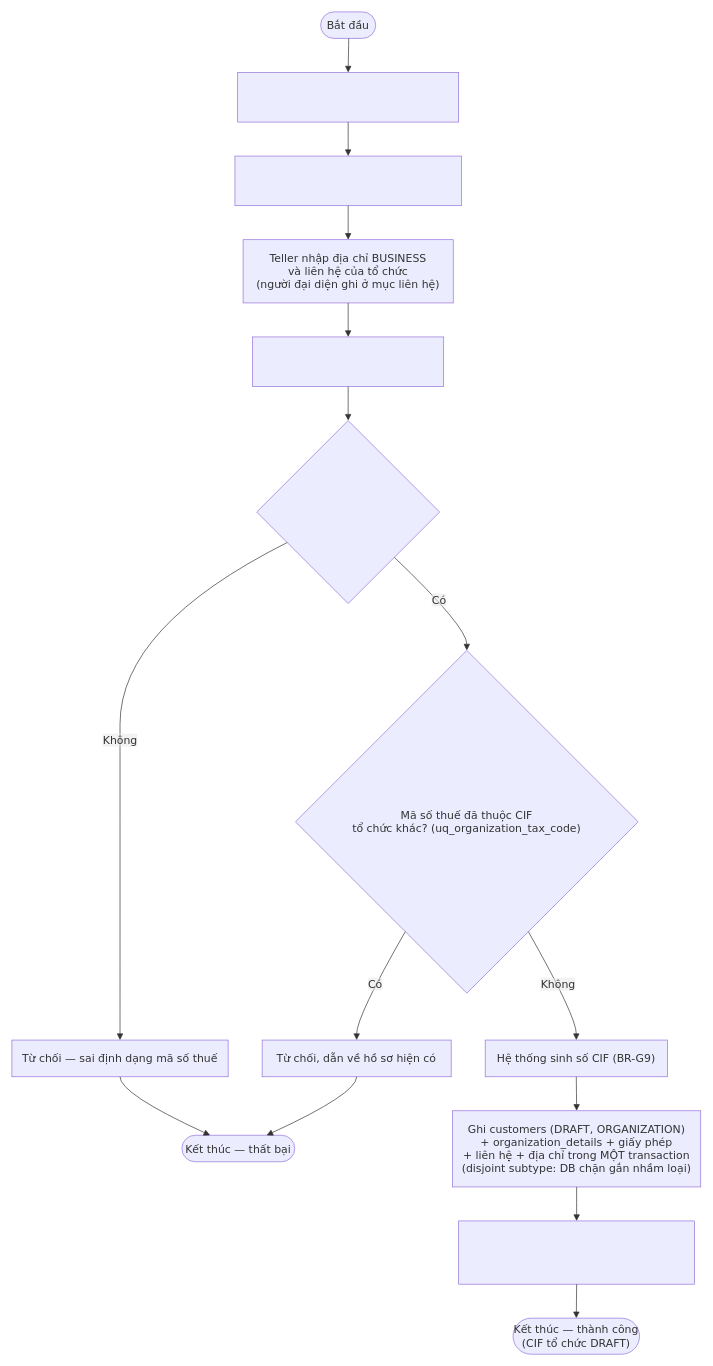
The diagram is 713 pixels wide and 1366 high, and some of its shapes have lost their labels. Here are the shapes that lost their labels. From the top down, the centre of each, then its label:
the point at 348,97: Teller nhập tên pháp lý, mã số thuế, ngày thành lập, loại hình kinh doanh
the point at 347,180: Teller nhập giấy tờ BUSINESS_LICENSE (số, ngày cấp, nơi cấp)
the point at 348,361: Hệ thống validate mã số thuế: định dạng 10 hoặc 13 số
the point at 348,512: Định dạng mã số thuế hợp lệ?
the point at 576,1252: Trả về số CIF, bước kế: KYC tổ chức (CUST-06, method MANUAL — BR-CUST-02-1)
